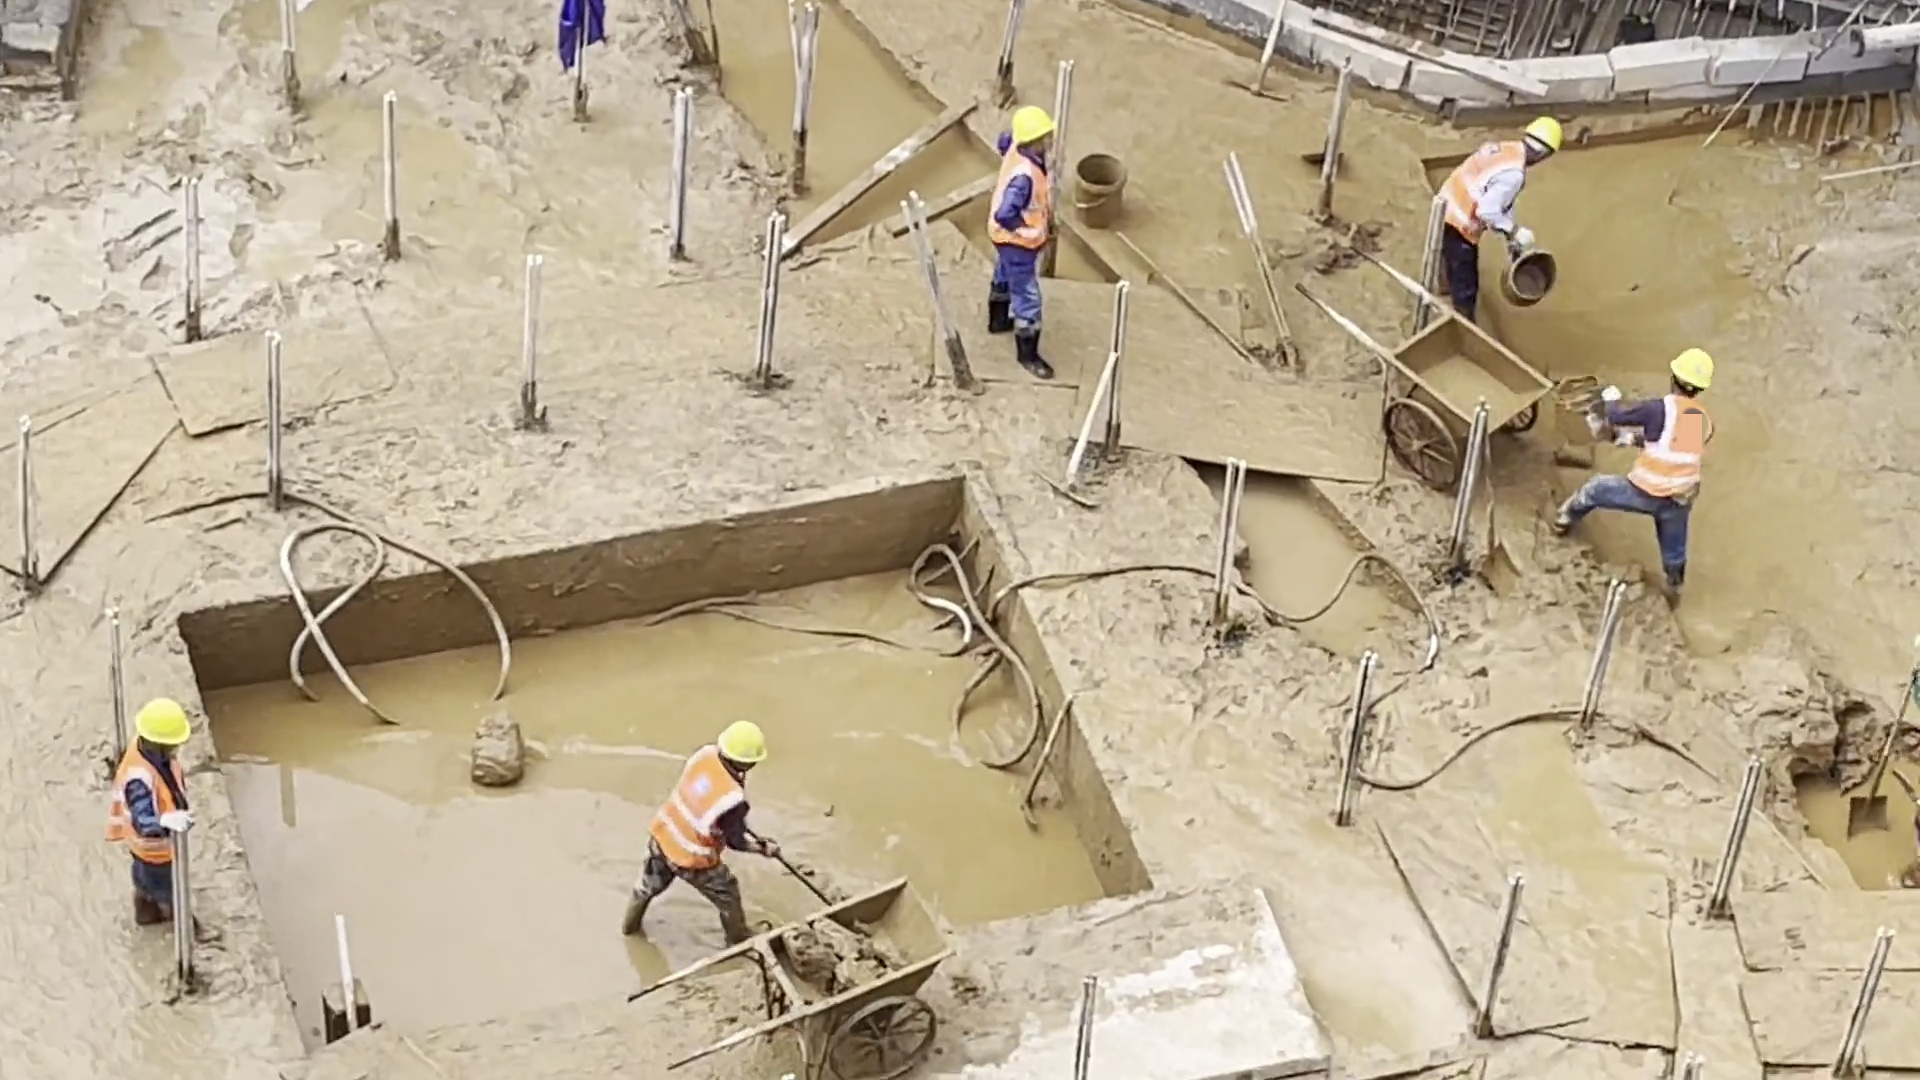helmet: (127, 695, 193, 748), (718, 721, 771, 765), (1670, 348, 1716, 388), (1012, 106, 1053, 146), (1527, 115, 1566, 151)
person: (1553, 336, 1722, 594), (628, 719, 768, 945), (1431, 112, 1564, 323), (111, 688, 215, 941), (984, 99, 1055, 381)
vest: (651, 745, 740, 876), (107, 741, 191, 865), (1633, 396, 1715, 516), (1433, 141, 1522, 241), (986, 141, 1050, 247)
